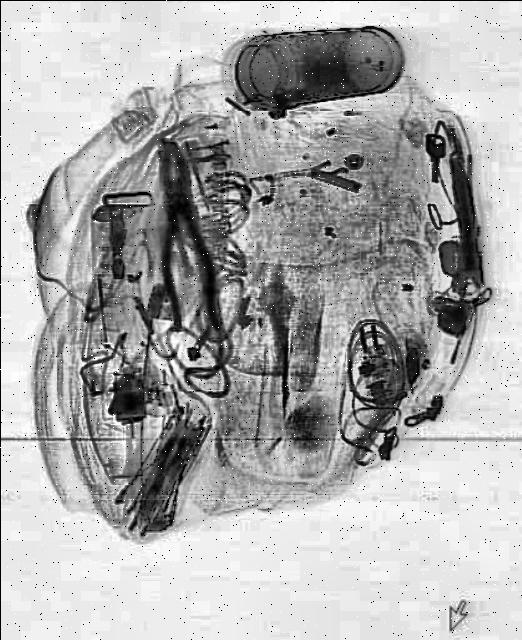Pliers: (140, 138, 221, 340)
